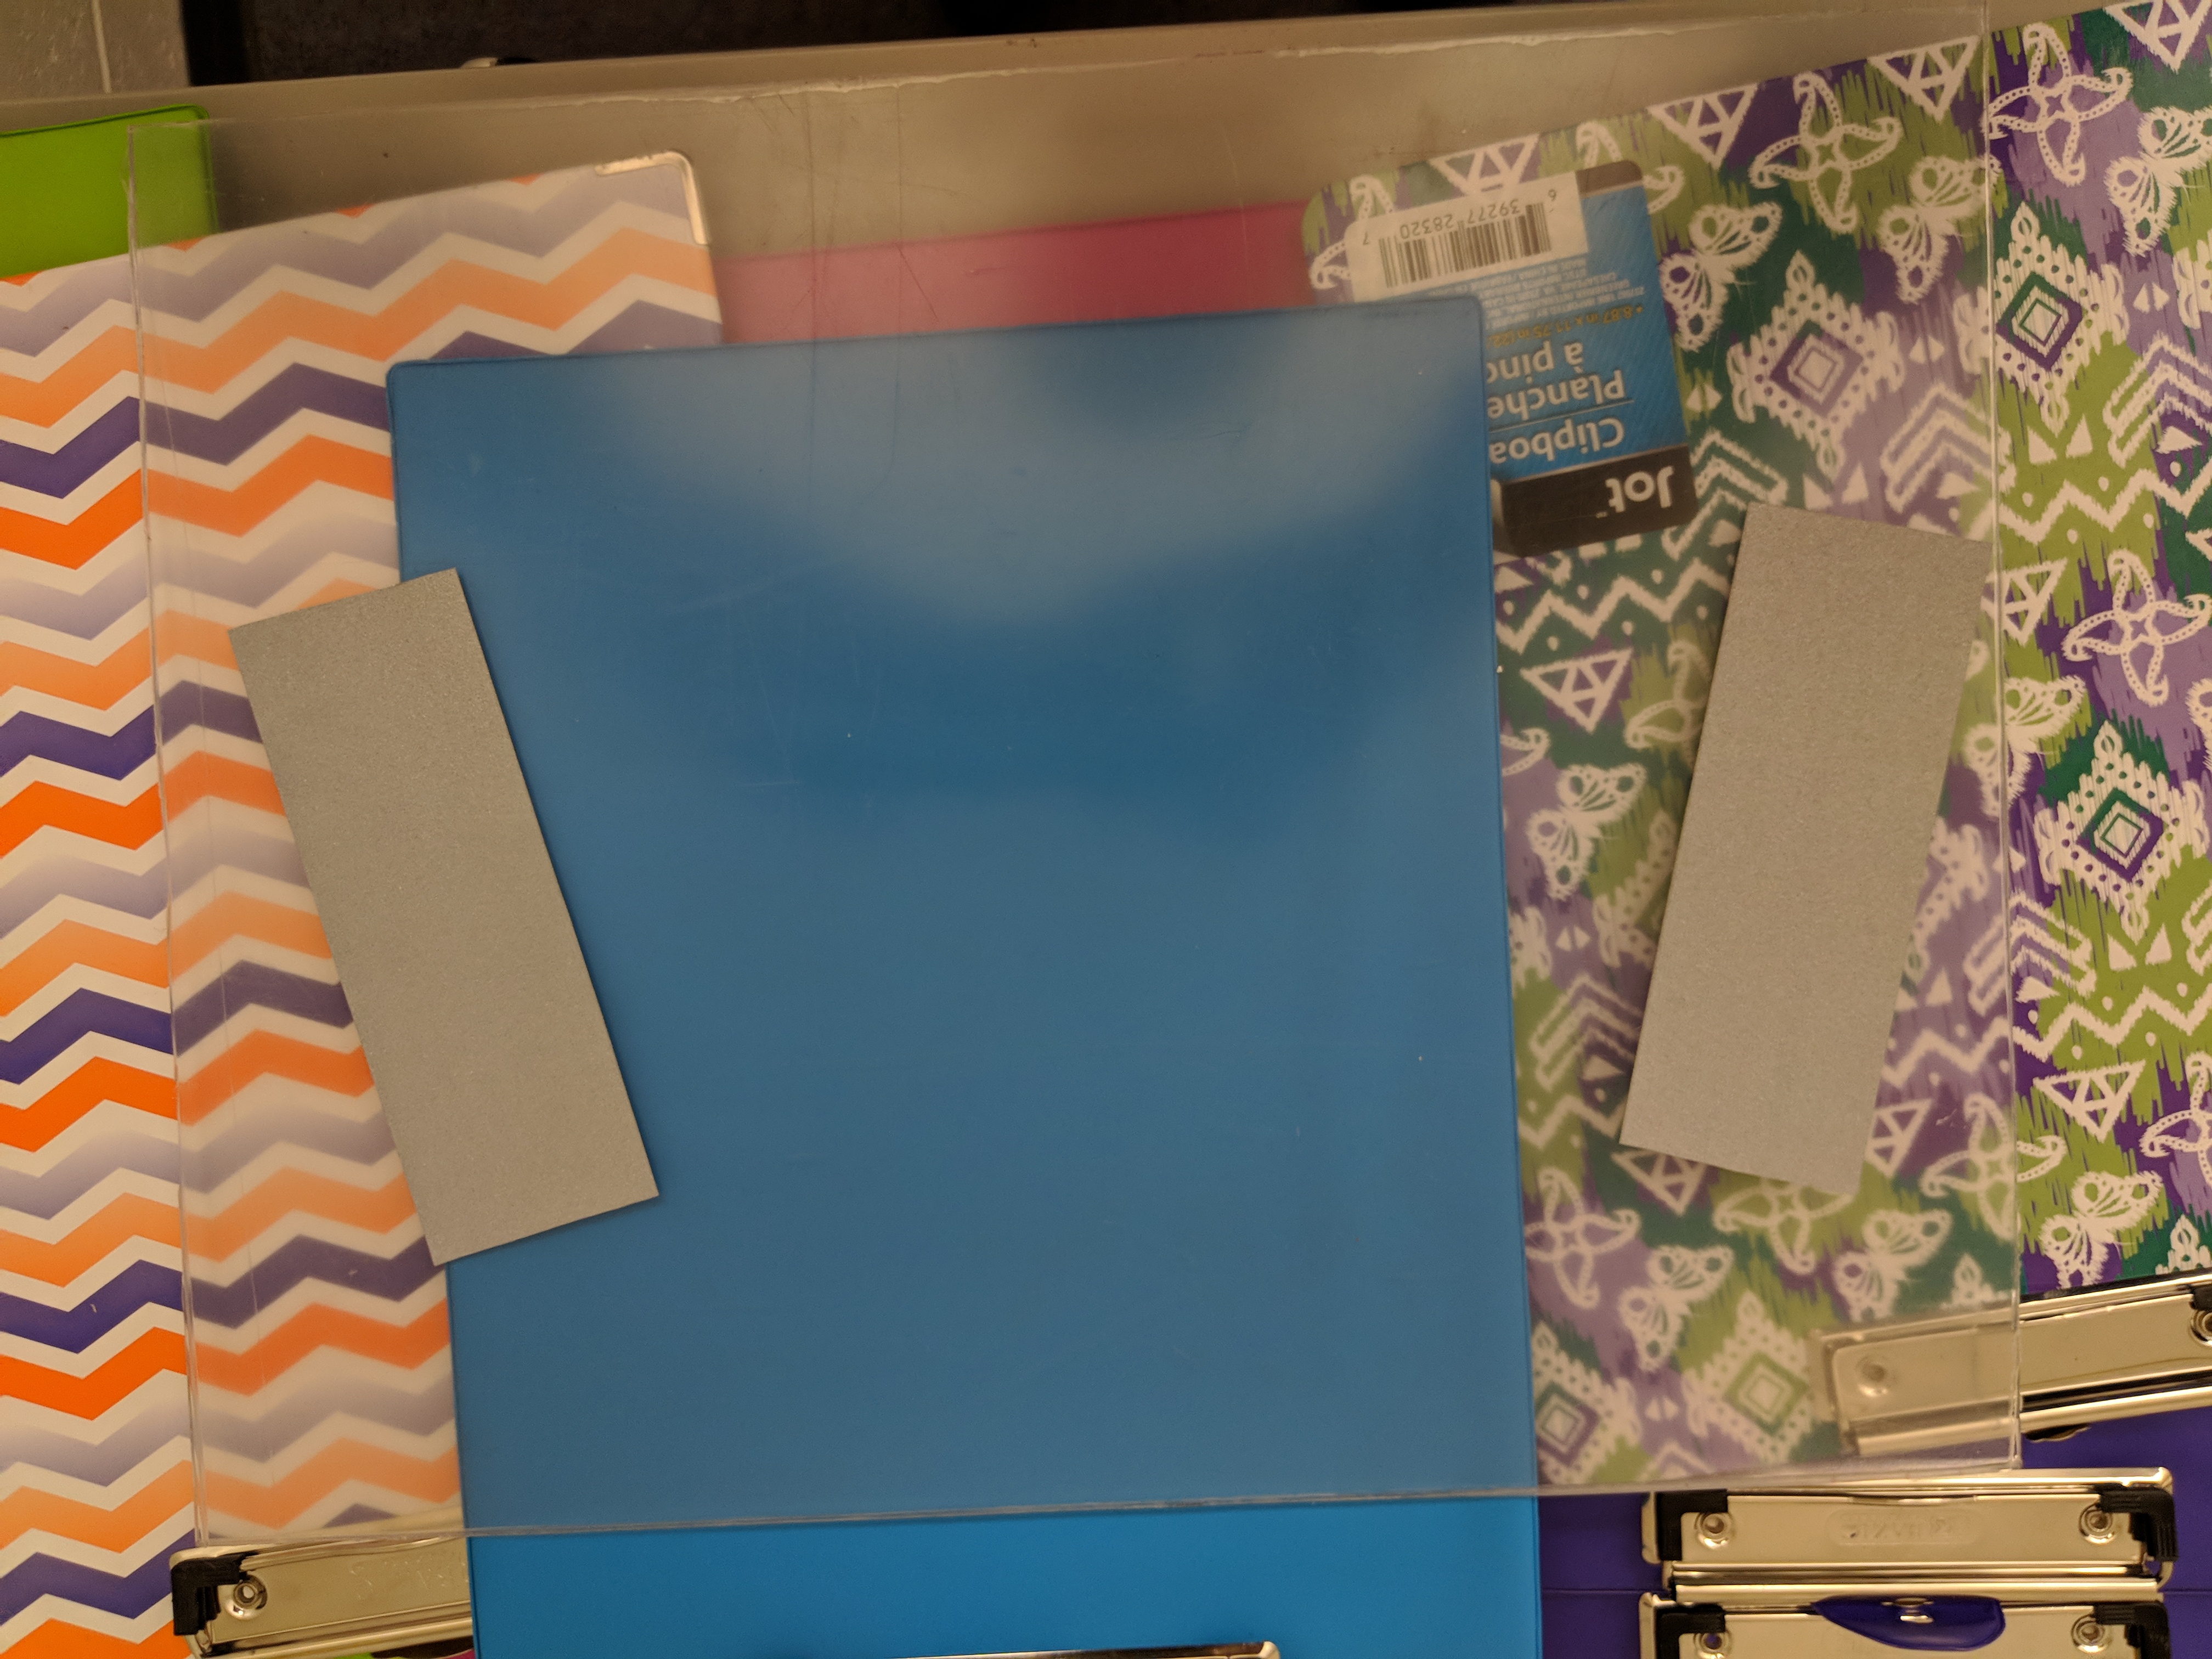vision_target: (204, 488, 2005, 1262)
